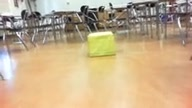cube: (87, 31, 116, 57)
